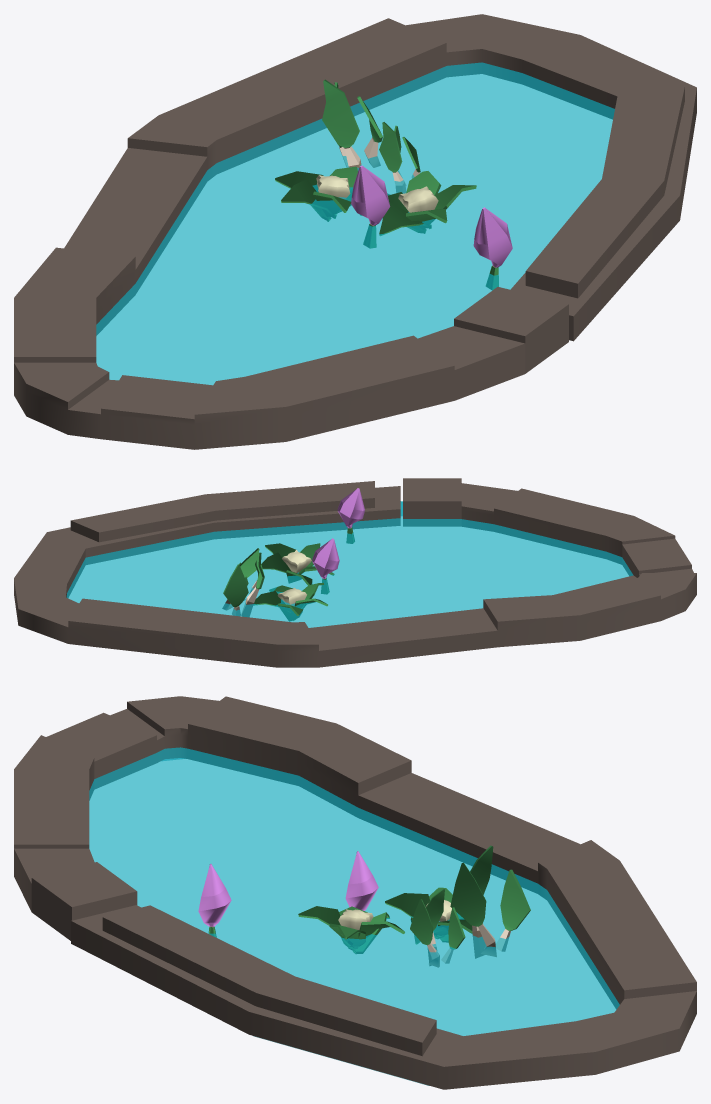
File: Vijvertje.fbx
The picture shows the model from 3 angles, top to bottom: view 1: azimuth 30°, elevation 25°; view 2: azimuth 150°, elevation 25°; view 3: azimuth 270°, elevation 25°; orthographic projection. The views are drawn at different scales.
Parts seen in each view (by area): view 1: Vijvertje; view 2: Vijvertje; view 3: Vijvertje.
Boxes of the visible parts, x1,y1,x2,y2 form: Vijvertje: (14,14,696,449); Vijvertje: (14,478,696,667); Vijvertje: (14,696,696,1089).
Size of the model in its own units: 3.02 by 0.4152 by 2.4.
